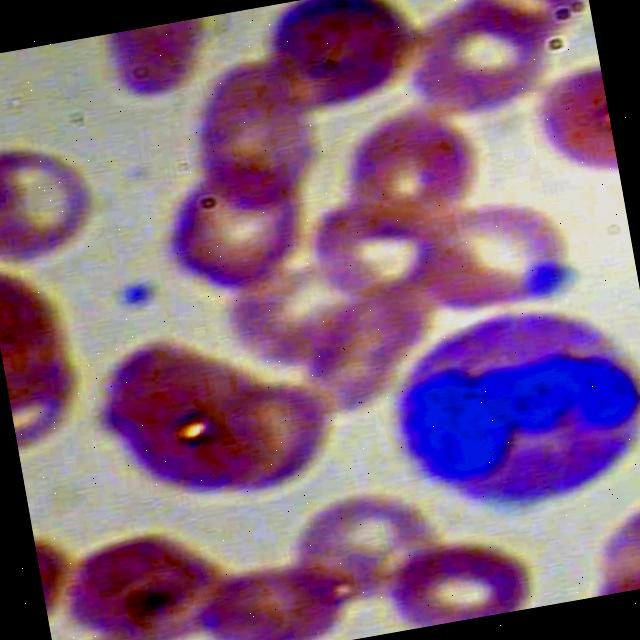Platelets: (103, 270, 163, 318)
RBC: (152, 160, 313, 314), (411, 184, 578, 331), (52, 513, 242, 640), (399, 0, 560, 139), (374, 518, 539, 632), (0, 120, 109, 272), (87, 15, 220, 123), (522, 55, 620, 194), (188, 553, 341, 640)
WBC: (368, 278, 640, 545)
